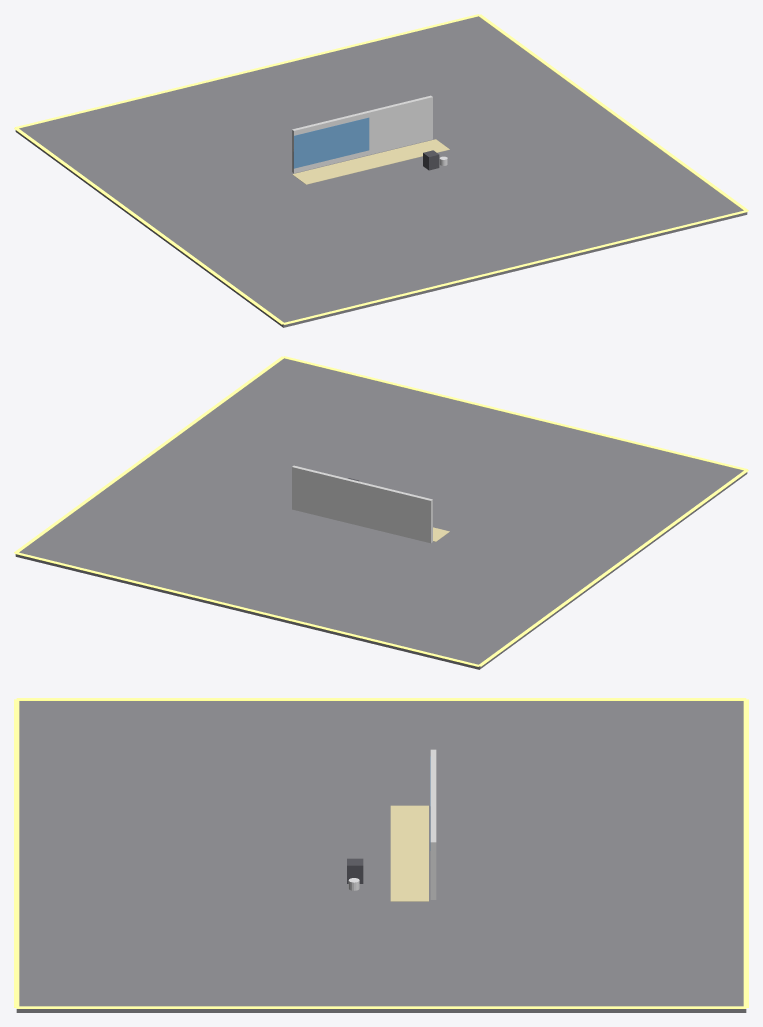
File: sim-airless-sprayer.glb
3 views of the same model, one above another, from view 1: azimuth 30°, elevation 25°; view 2: azimuth 150°, elevation 25°; view 3: azimuth 270°, elevation 25° (orthographic). The views are drawn at different scales.
Visible parts, largest first — view 1: Airless Paint Sprayer Finish; view 2: Airless Paint Sprayer Finish; view 3: Airless Paint Sprayer Finish.
Boxes of the visible parts, box(x1,y1,x2,y2) form: Airless Paint Sprayer Finish: box(14, 14, 748, 327); Airless Paint Sprayer Finish: box(14, 356, 748, 669); Airless Paint Sprayer Finish: box(14, 698, 748, 1012).
Bounding box in the file's own units: 40.3 × 3.8 × 40.3.
